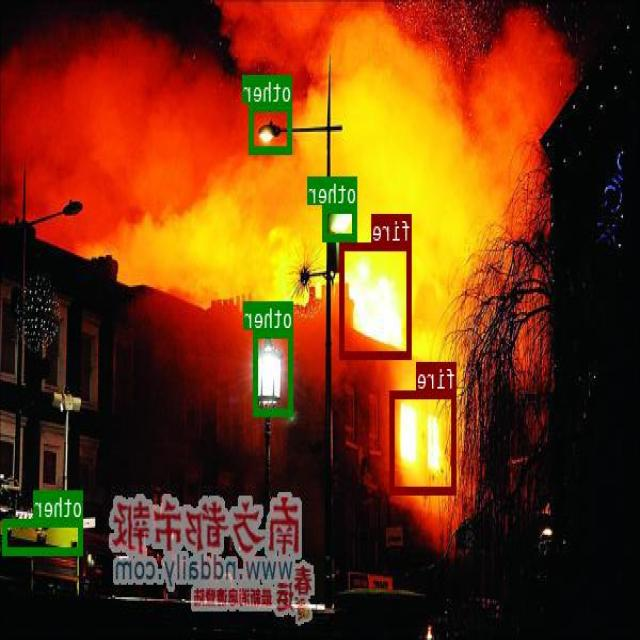fire: (341, 242, 412, 358), (390, 390, 458, 493)
other: (254, 330, 294, 414), (4, 518, 84, 554), (250, 103, 292, 152), (324, 204, 358, 239)
